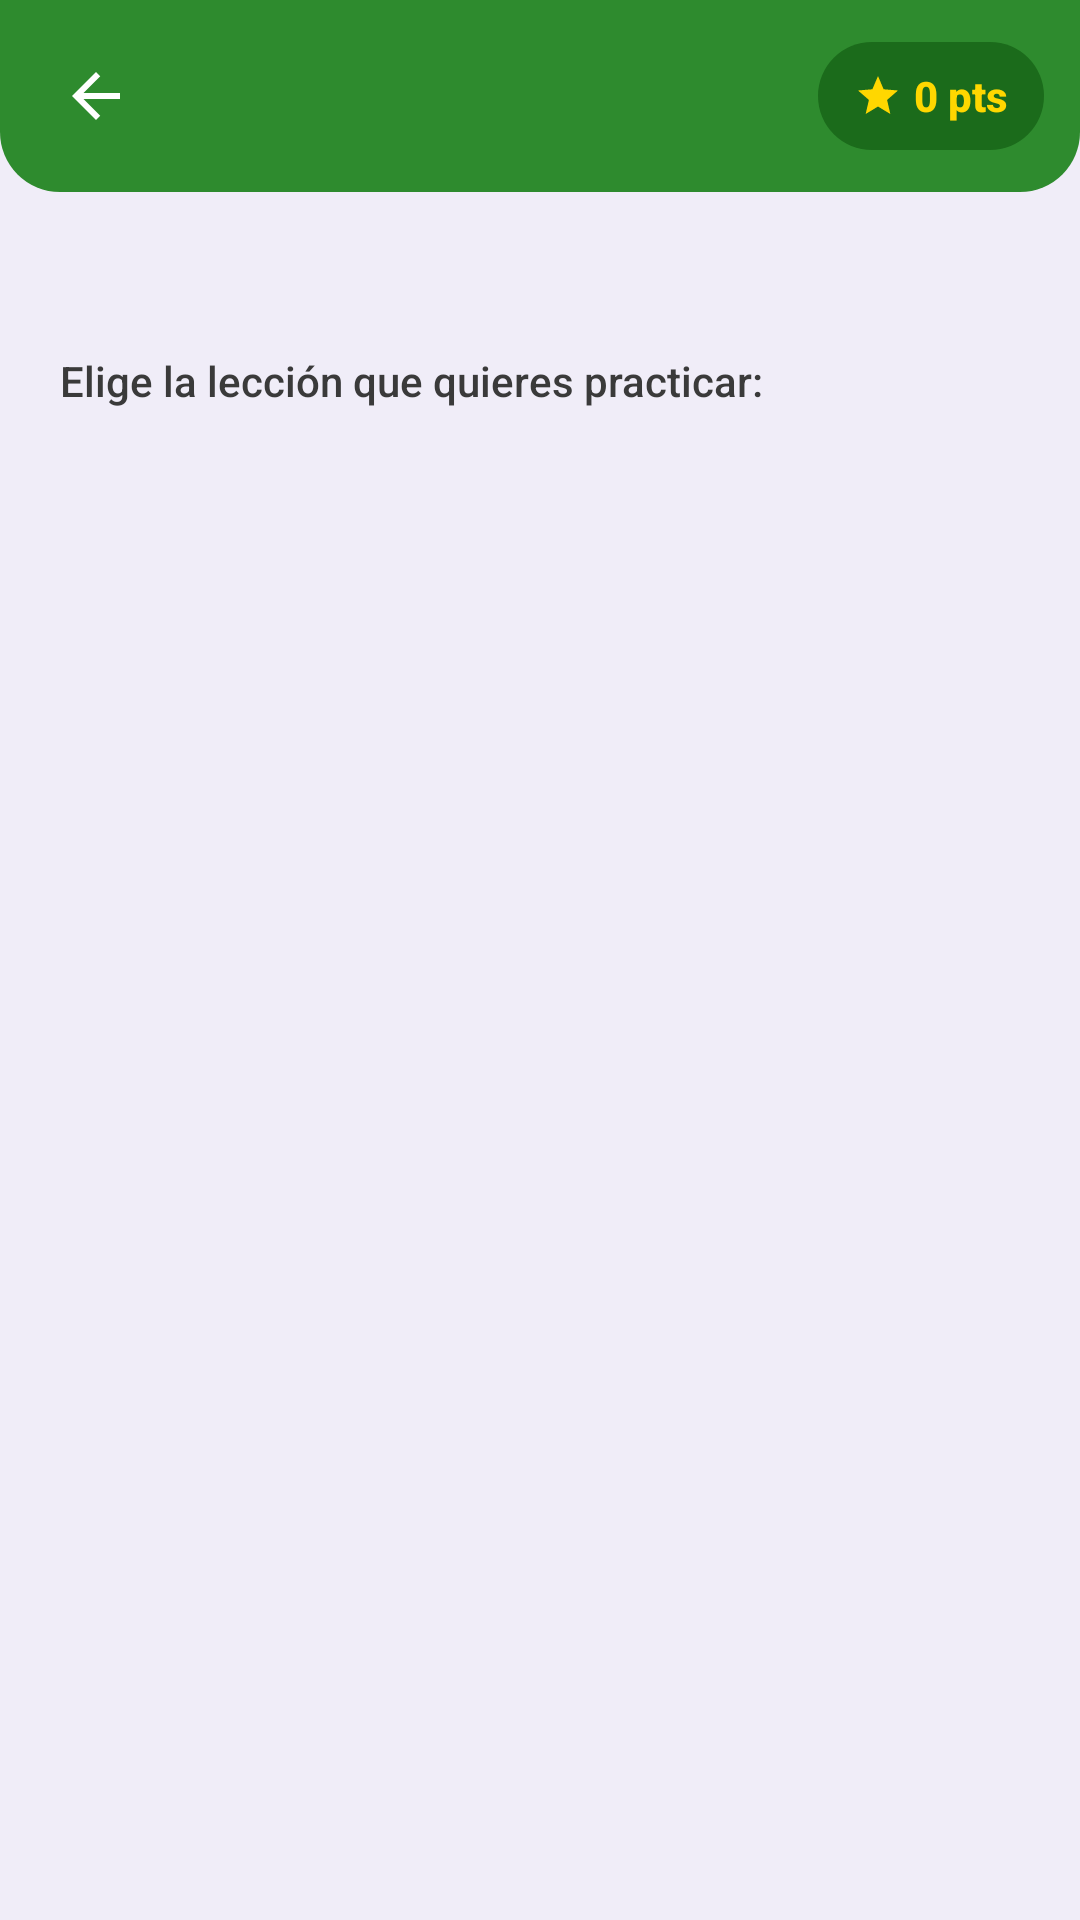

Named icons in this screenshot (1080×1920) and their bounding boxes, (x1, y1, x2, y2):
Estrella de puntos: (858, 76, 898, 114)
Regresar: (72, 72, 120, 120)
